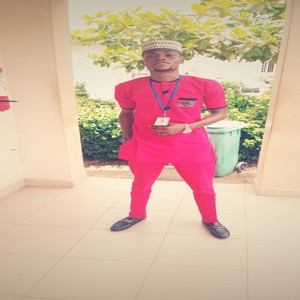Fulokoja_male_student: (114, 44, 222, 242)
